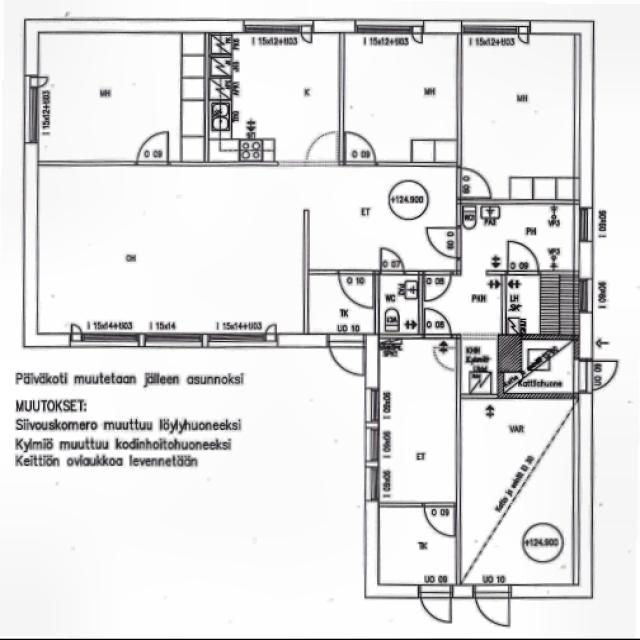Doors-dC8s: (472, 584, 512, 596), (329, 334, 364, 344), (419, 586, 453, 596), (454, 160, 461, 202), (139, 160, 171, 169), (337, 270, 371, 278), (580, 363, 589, 392), (511, 268, 540, 277), (457, 227, 465, 259), (27, 72, 38, 88), (338, 163, 380, 167), (426, 504, 458, 508), (266, 335, 276, 347), (70, 334, 83, 340), (299, 29, 311, 33), (517, 30, 534, 32), (417, 27, 425, 31)
Window: (352, 22, 413, 38), (23, 93, 40, 143), (212, 333, 260, 346), (240, 24, 301, 32), (457, 26, 520, 33), (152, 333, 198, 342), (367, 434, 379, 460), (581, 210, 592, 238), (364, 471, 374, 500), (580, 284, 590, 310), (366, 392, 376, 417), (88, 338, 136, 342), (276, 162, 278, 164)
